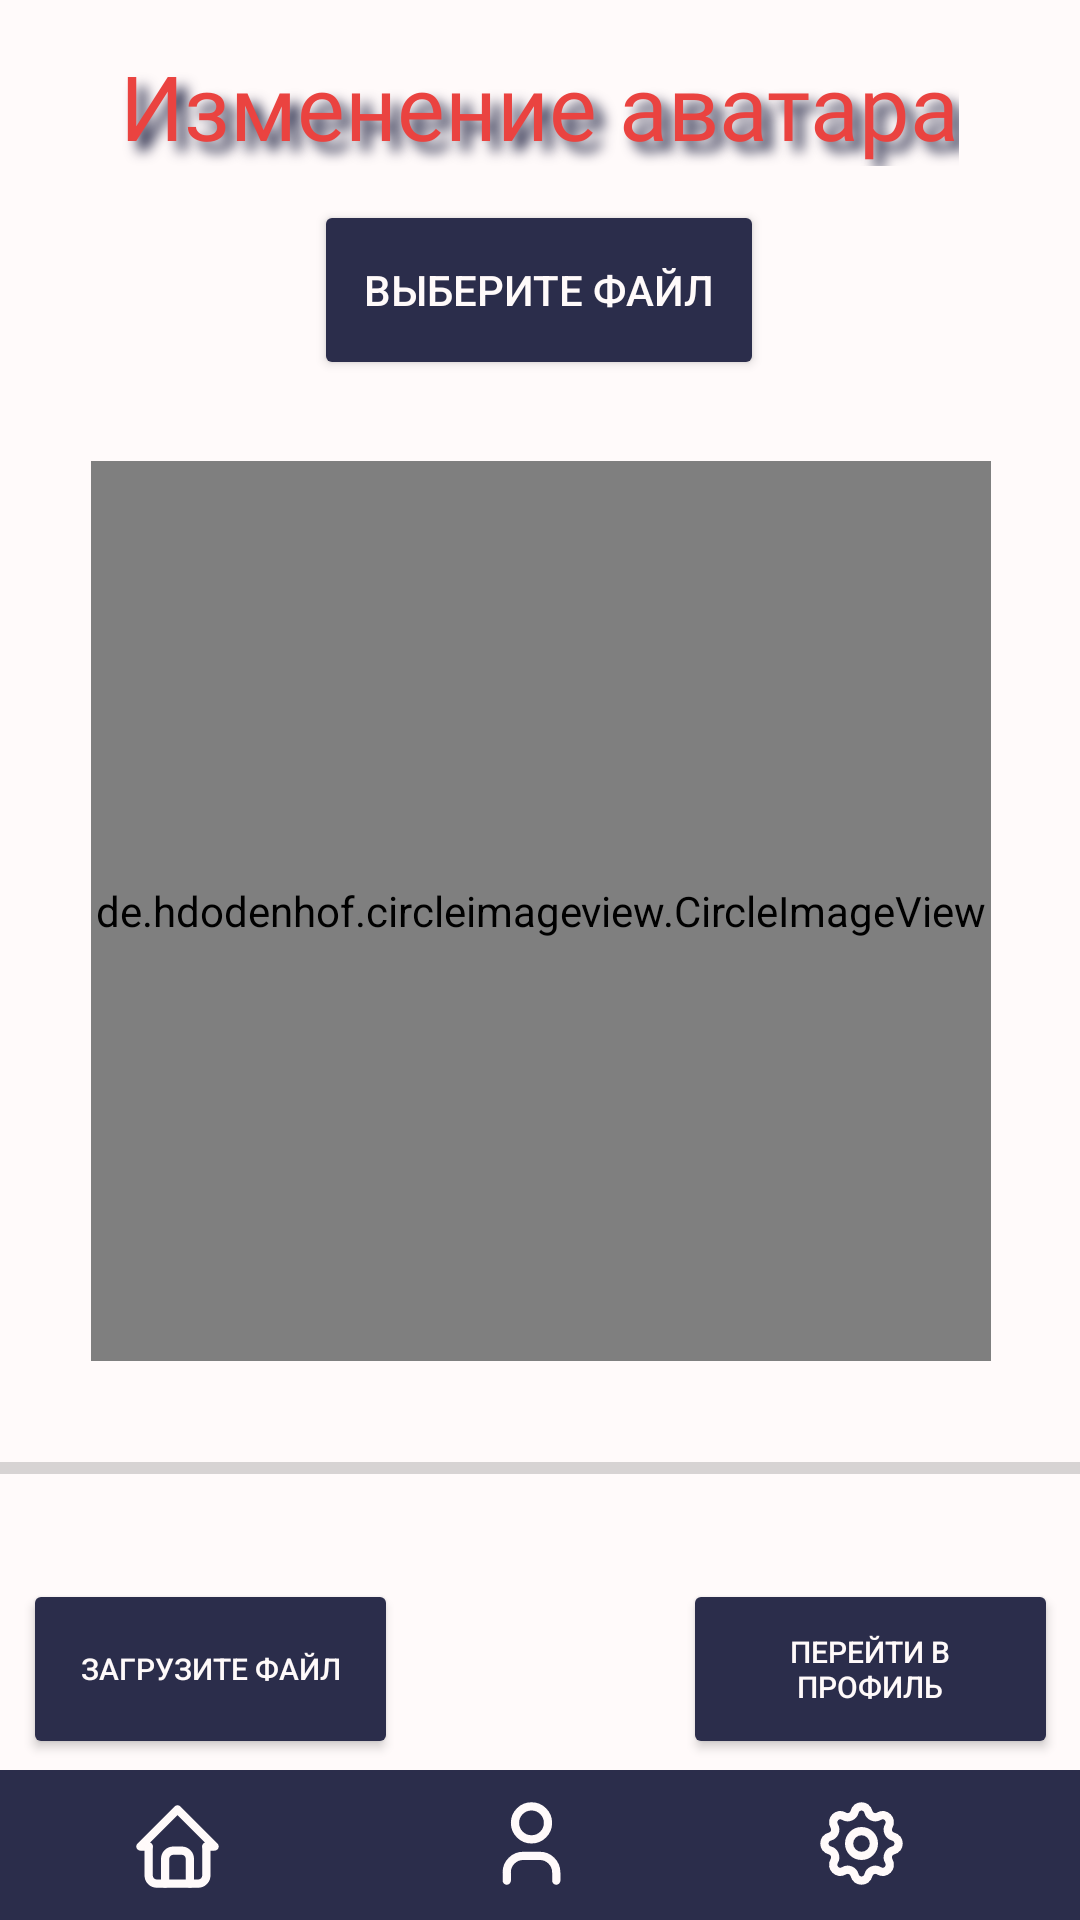

Named icons in this screenshot (1080w x 1920h) and their centers, point (x, y):
home: point (177, 1846)
settings: point (861, 1843)
user: point (531, 1843)
